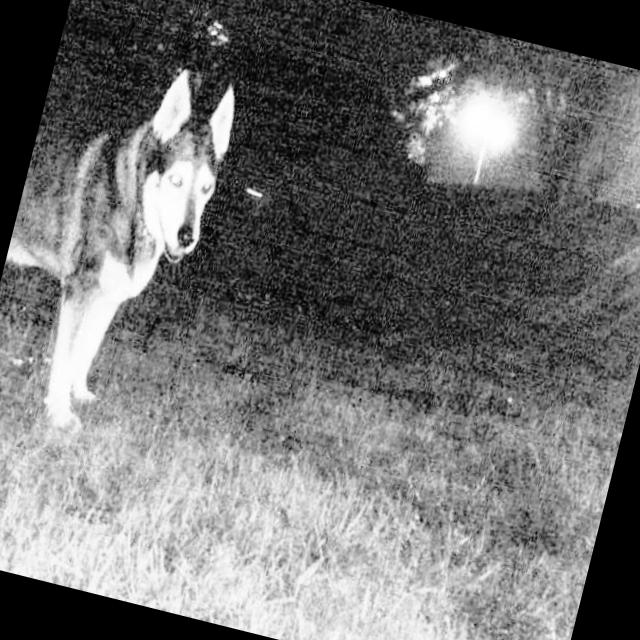Dog: (0, 26, 294, 459)
